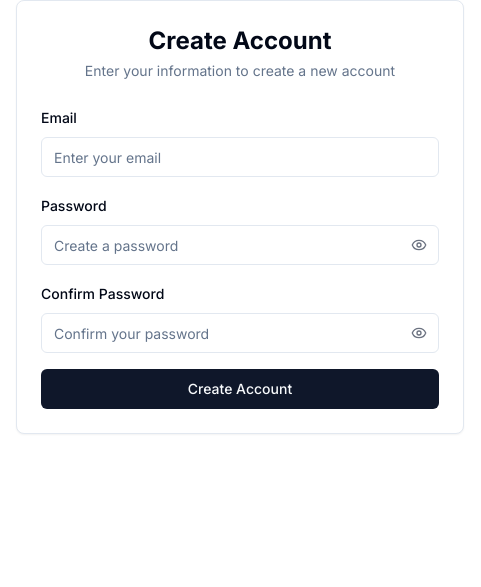
RegisterForm › shows validation error for mismatched passwords
The image size is (481, 587).
In the field labelled "Email": (240, 157) x1=41 y1=137 x2=439 y2=177, type "test@example.com"
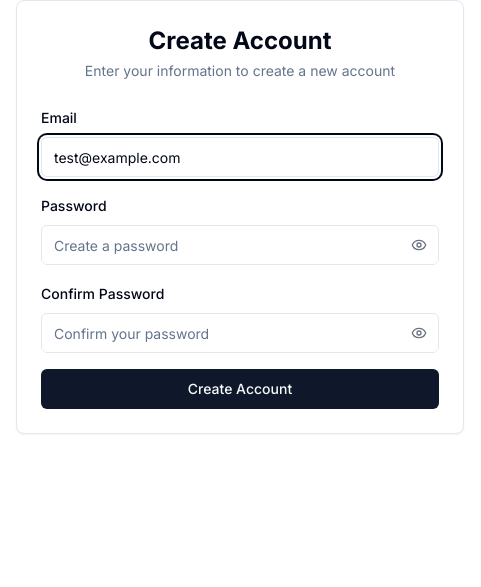
In the password field labelled "Password": (240, 245) x1=41 y1=225 x2=439 y2=265, type "Password123"
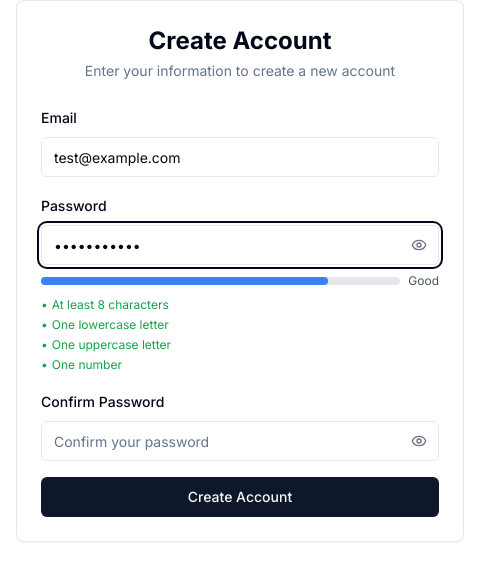
In the password field labelled "Confirm Password": (240, 441) x1=41 y1=421 x2=439 y2=461, type "DifferentPassword123"
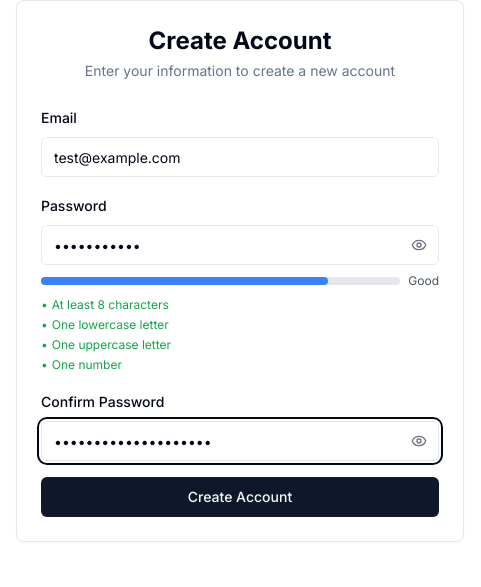
Click the button "Create Account": (240, 497) x1=41 y1=477 x2=439 y2=517
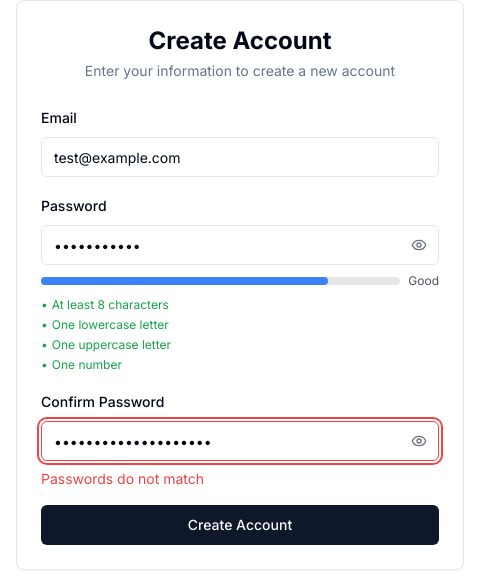
Result: the text "Passwords do not match" is shown at x1=41 y1=470 x2=204 y2=487
